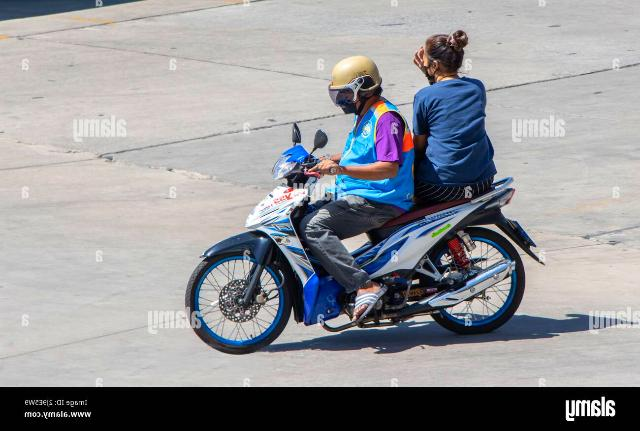helm: (329, 57, 383, 115)
motor: (192, 120, 524, 357)
non-helm: (424, 32, 468, 81)
